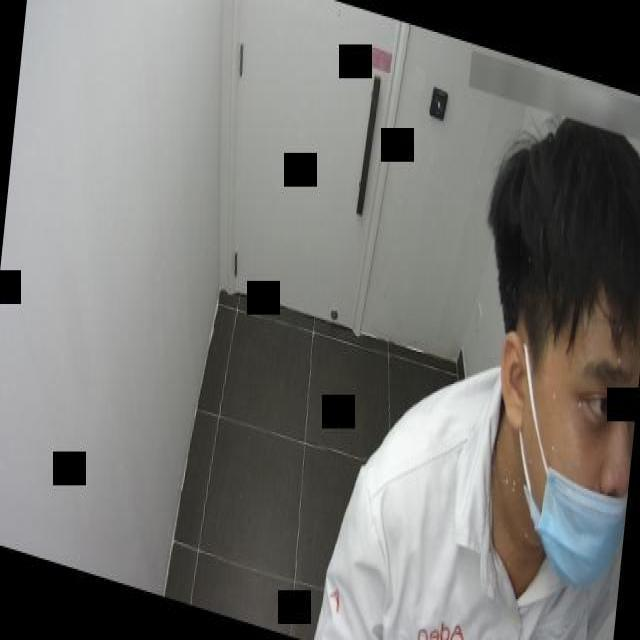hairnet: (539, 338, 640, 588)
